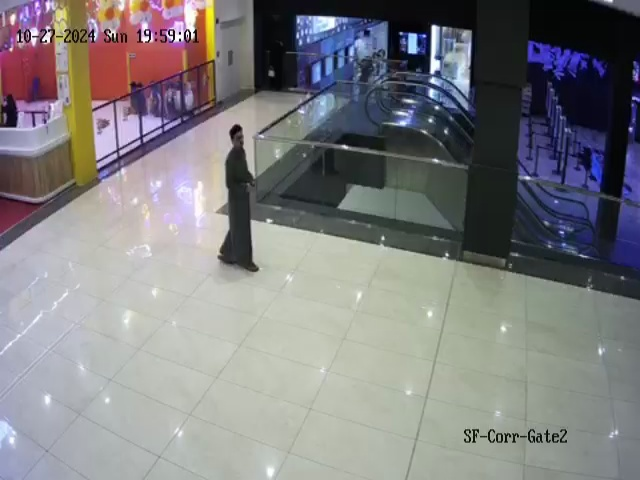male: (217, 124, 259, 273)
